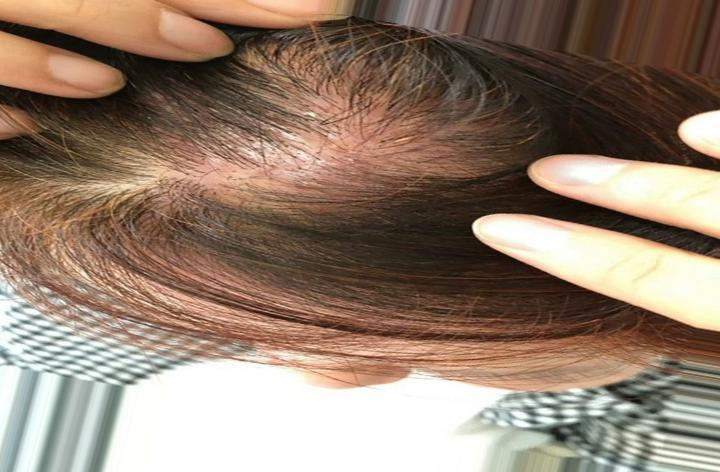Contact Dermatitis: (218, 64, 480, 243)
